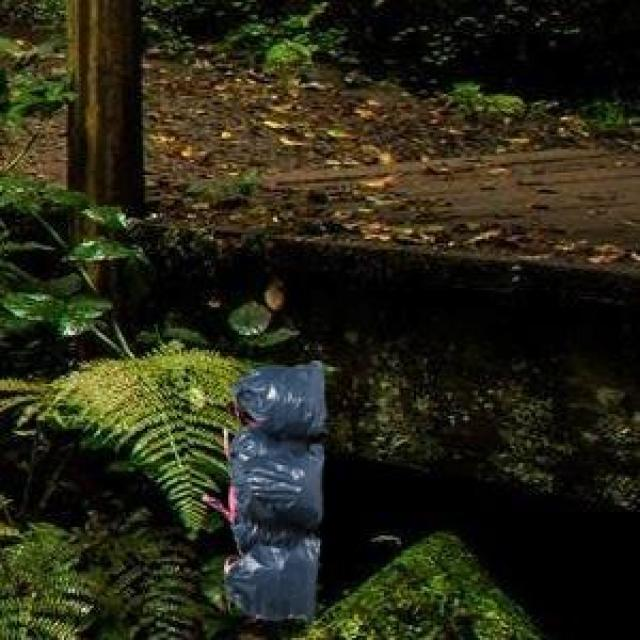waste: (226, 361, 326, 621)
